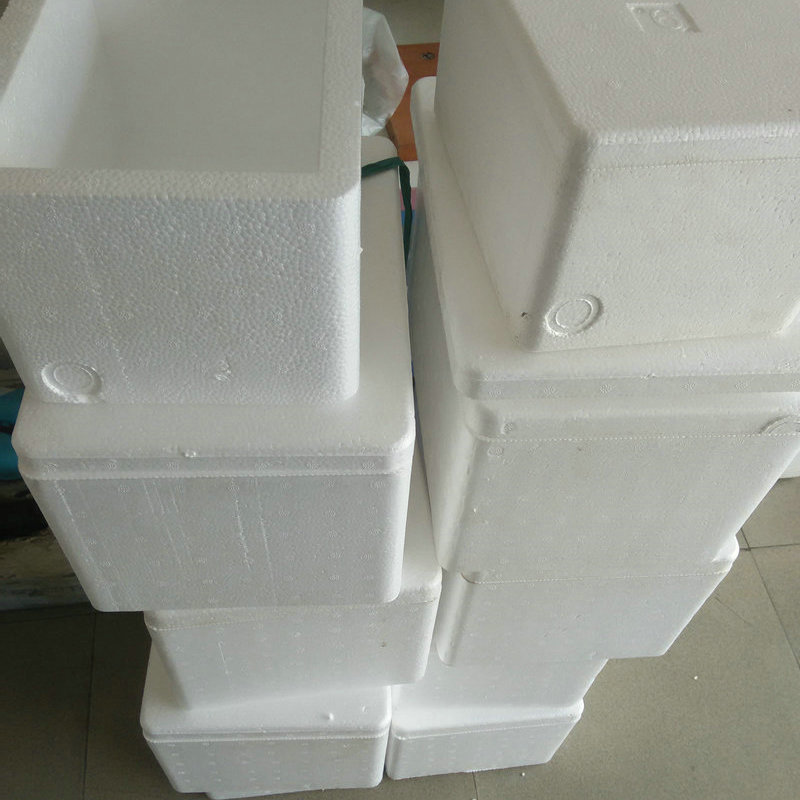泡沫箱: (0, 0, 442, 796), (387, 0, 800, 779)
